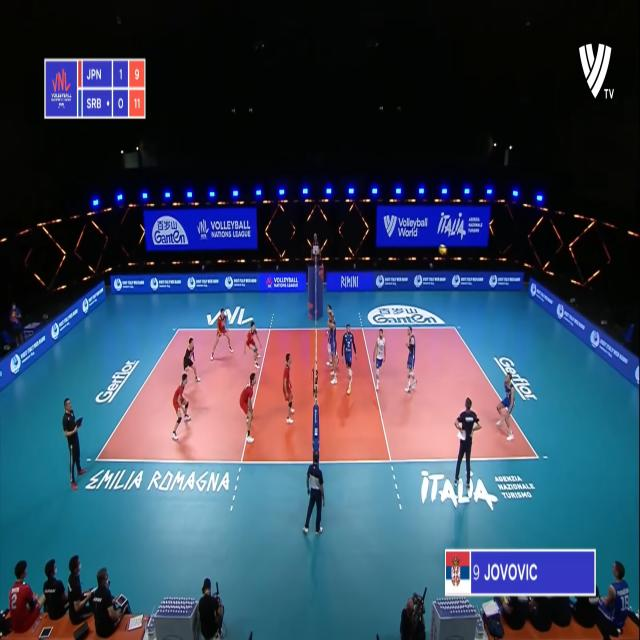player: (170, 371, 192, 445), (279, 349, 297, 430), (324, 302, 341, 384), (210, 307, 234, 364), (340, 318, 358, 394), (240, 372, 258, 445), (242, 316, 264, 373), (498, 374, 516, 438), (372, 327, 389, 391), (182, 332, 201, 383), (404, 323, 416, 395)
